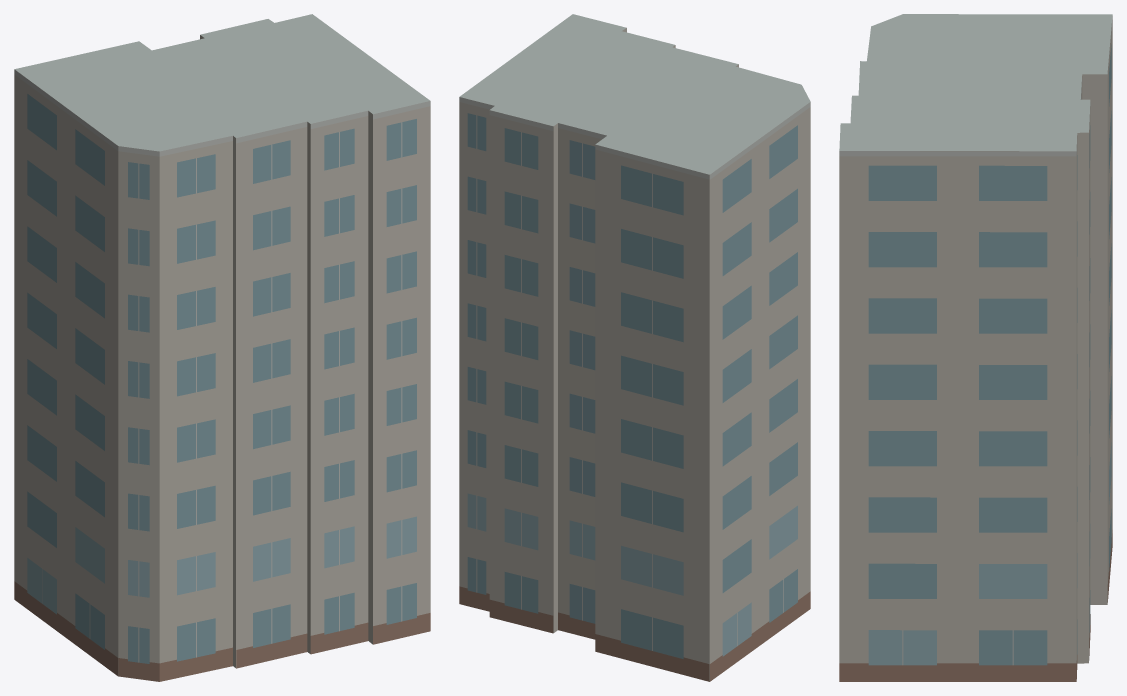
Rendered from survey-upis-32655840.glb.
3 views of the same model, side by side, from view 1: azimuth 30°, elevation 25°; view 2: azimuth 150°, elevation 25°; view 3: azimuth 270°, elevation 25° (orthographic). The views are drawn at different scales.
Parts seen in each view (by area): view 1: survey-upis-32655840.tmp; view 2: survey-upis-32655840.tmp; view 3: survey-upis-32655840.tmp.
Part boxes in pixels (x1,y1,x2,y2): survey-upis-32655840.tmp: (14,14,430,681); survey-upis-32655840.tmp: (459,14,810,681); survey-upis-32655840.tmp: (839,14,1112,681).
Bounding box in the file's own units: 13.7 × 24.7 × 11.54.
